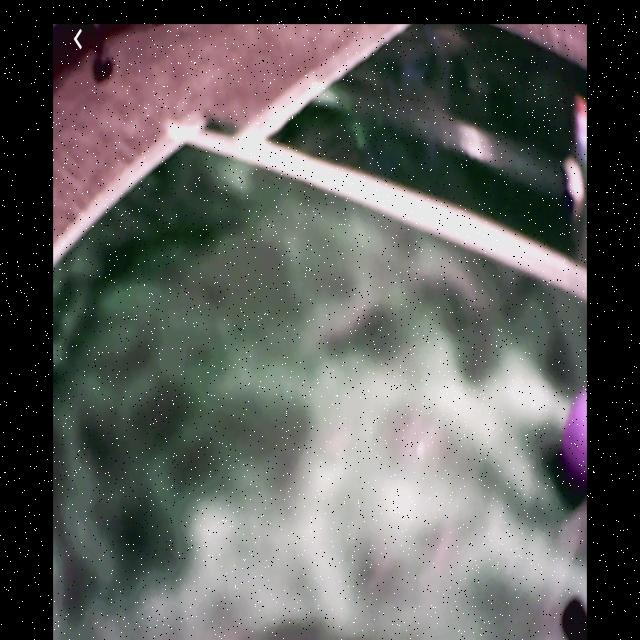ball: (564, 388, 588, 488)
